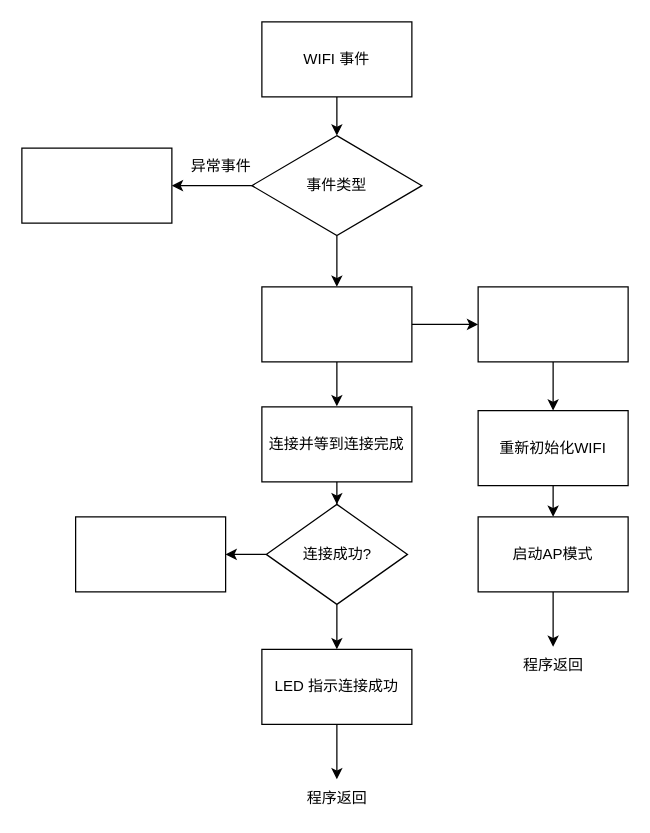
Image size: 650x833. Some labels were removed from this diagram. The shapes that lost their labels are listed below. From the top down, each one's centre as x and y in pixels, then its label:
[96,185]: 打印异常并返回
[336,324]: 连接事件
[552,324]: WIFI 模式切换
[150,554]: LED 指示连接失败
